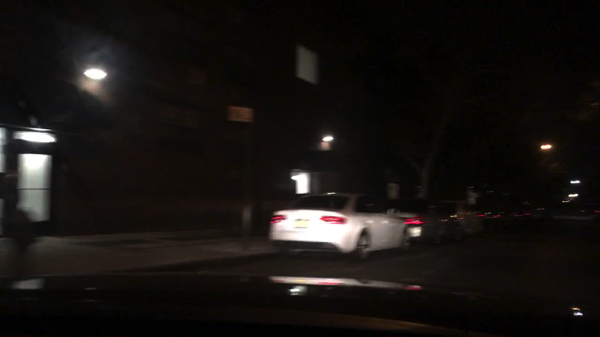car: (268, 191, 420, 263), (389, 199, 466, 246), (436, 199, 488, 236), (477, 206, 512, 226), (511, 208, 535, 223), (535, 207, 555, 220), (586, 204, 599, 217)
traffic sign: (228, 106, 253, 122)
